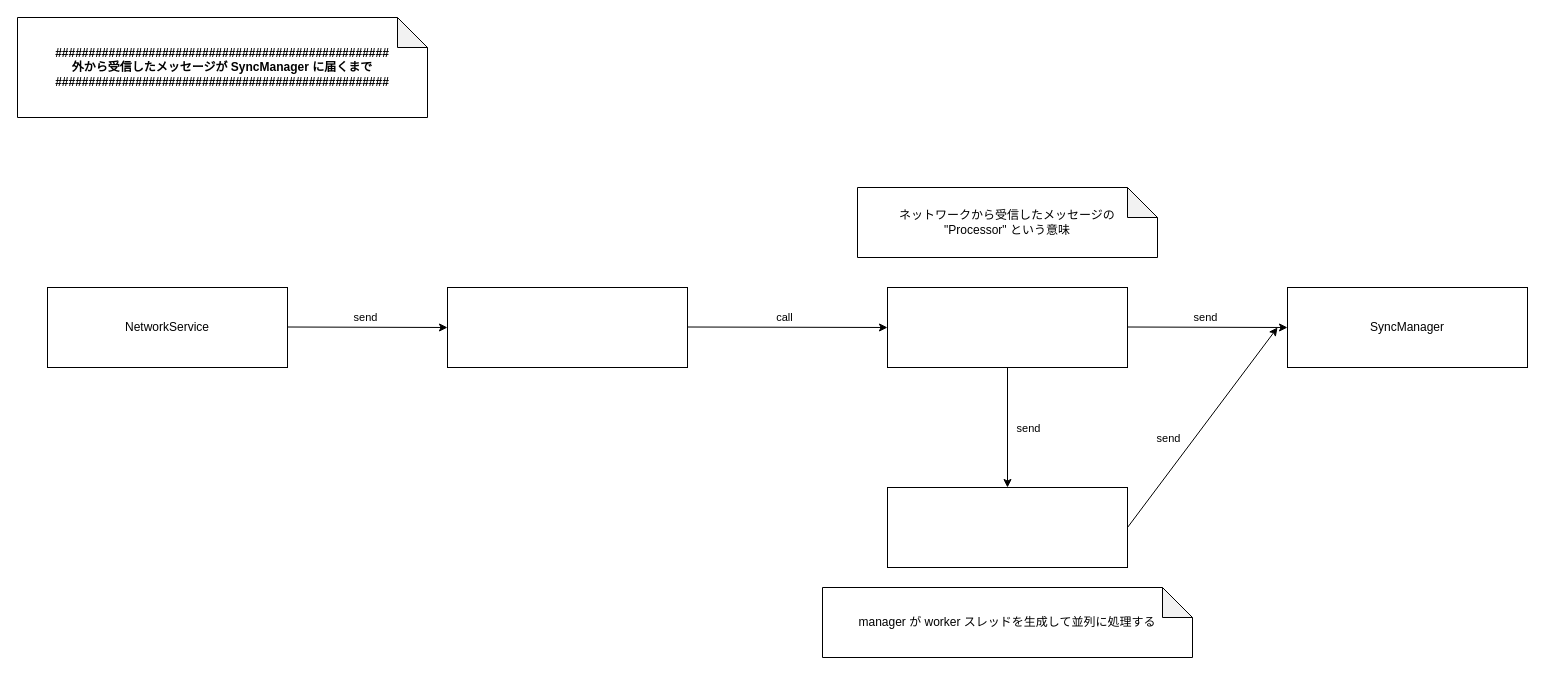
This 1545x675 diagram has some shape labels left out. The shapes that lost their labels are listed below. From the top down, each one's box as (x1, y1, x2, y2) in pixels, then its label:
(446, 286, 688, 368): Router
(886, 286, 1128, 368): Processor
(886, 486, 1128, 568): BeaconProcessor
